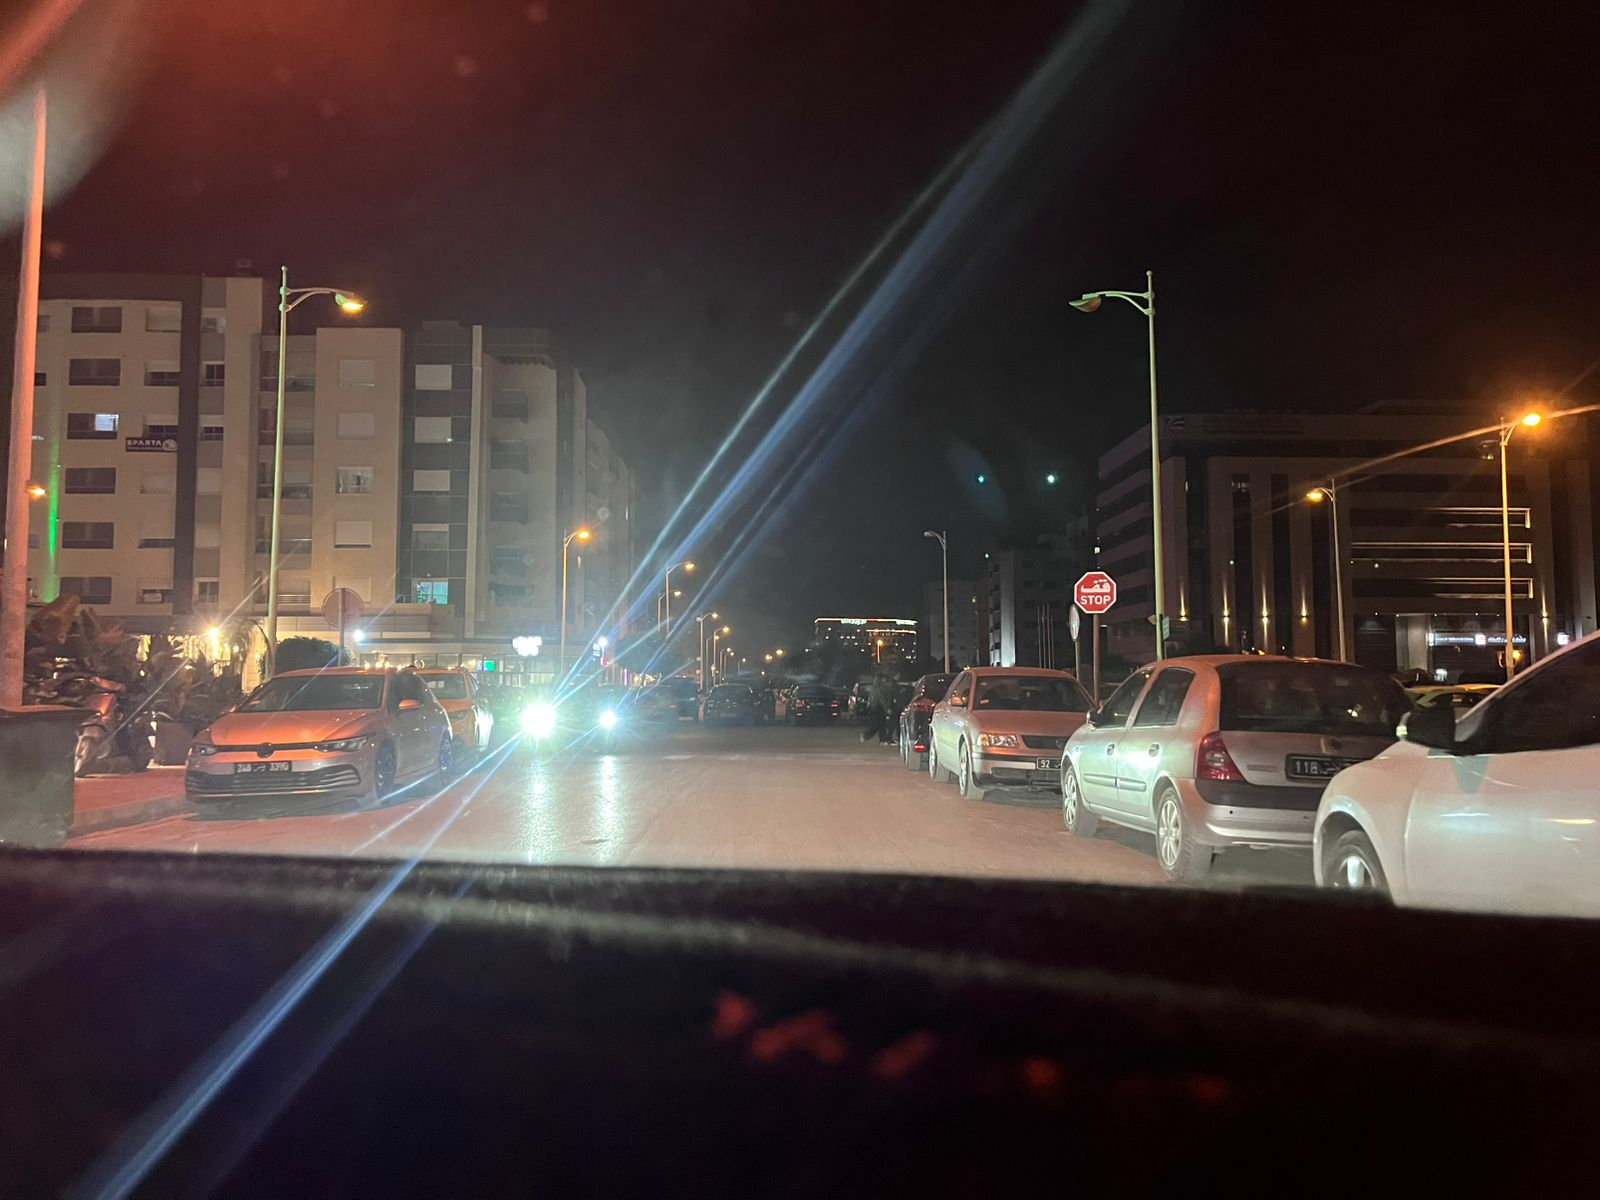Stop: (1075, 571, 1116, 614)
